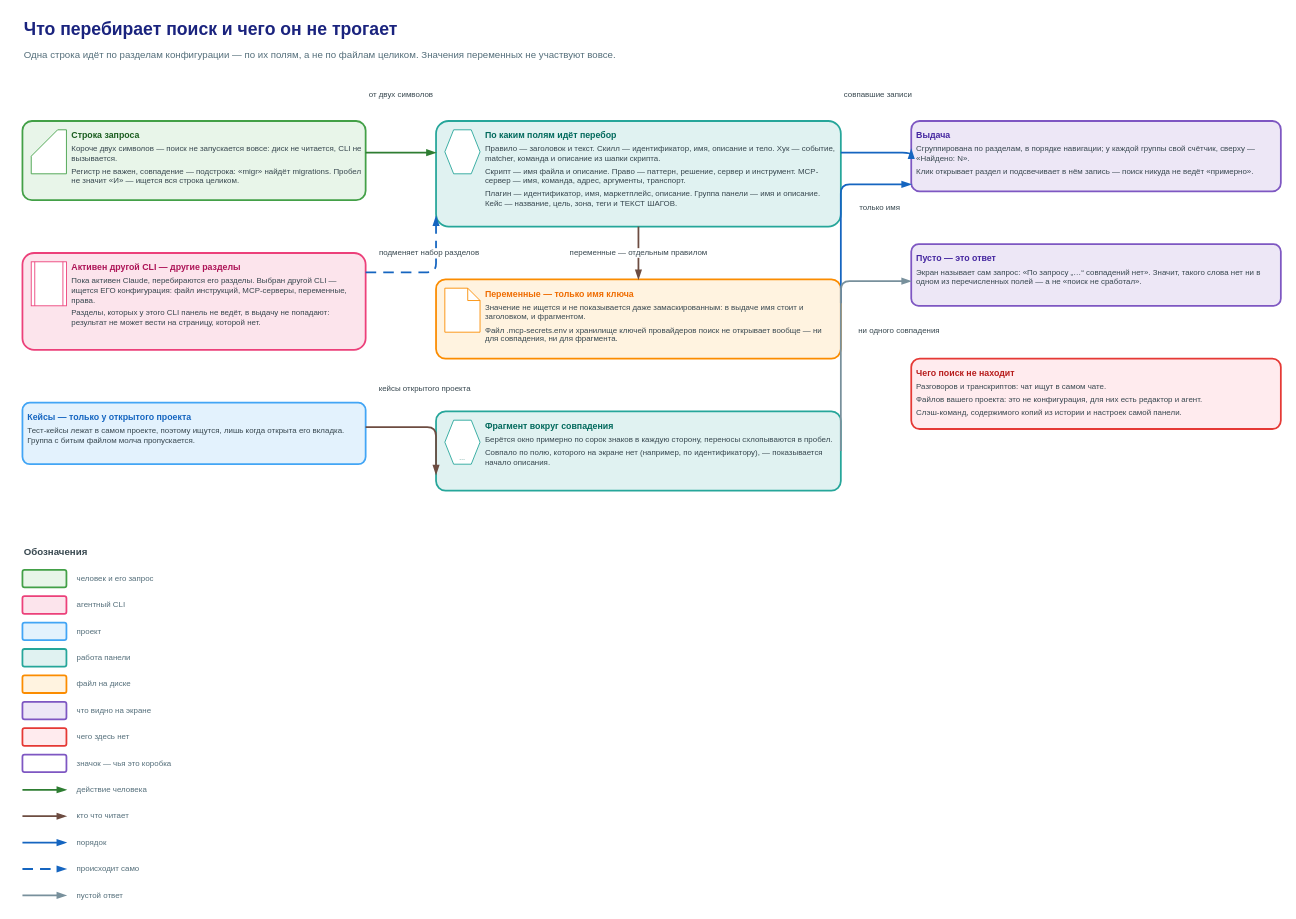
Image size: 1296x919. Some labels were removed from this diagram. Here are the shapes that lost their labels. From the top down, the centre of each, then its label:
(x=48, y=151): запрос
(x=462, y=151): поля
(x=48, y=283): CLI
(x=462, y=309): env
